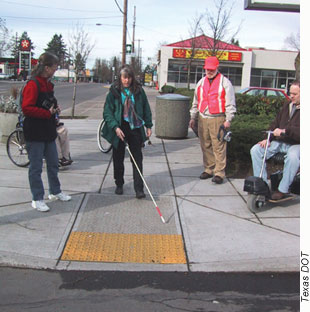ramp: (28, 186, 223, 285)
